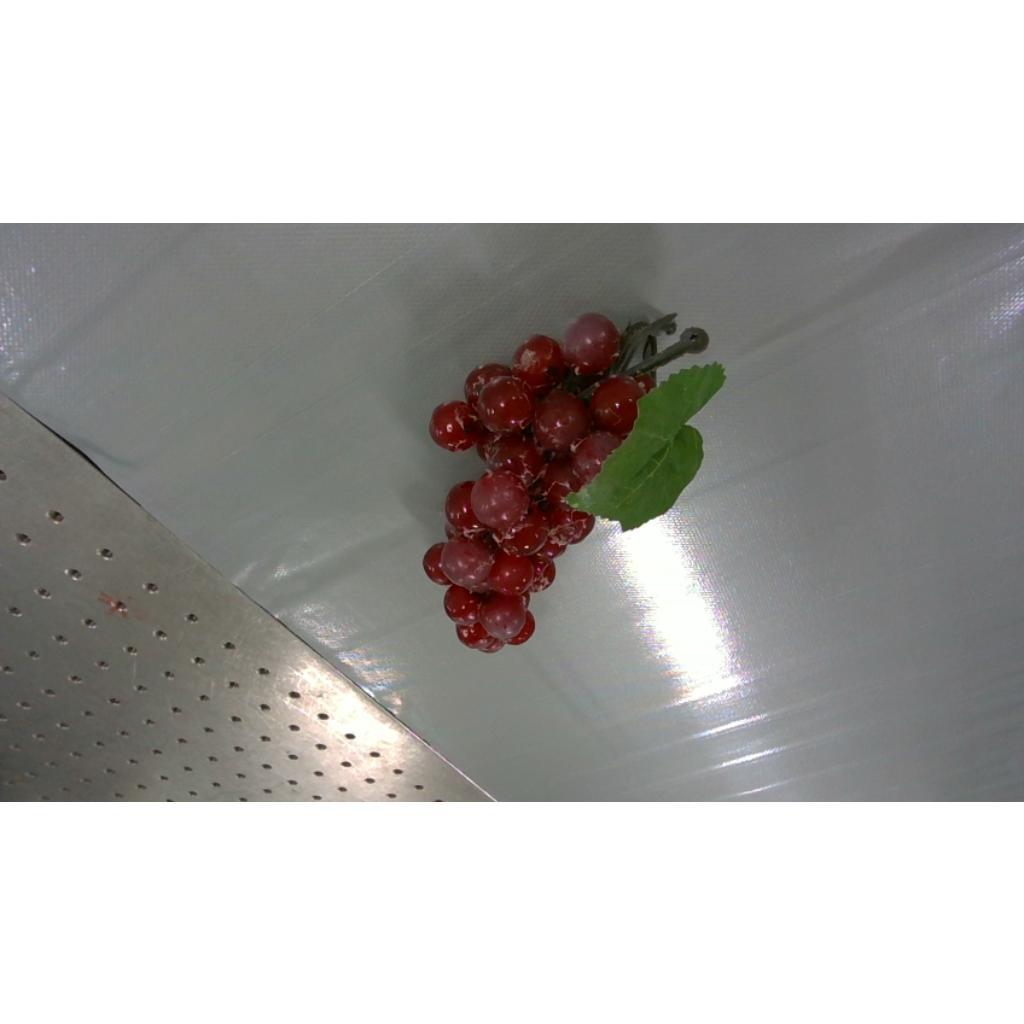grape: (424, 312, 726, 652)
